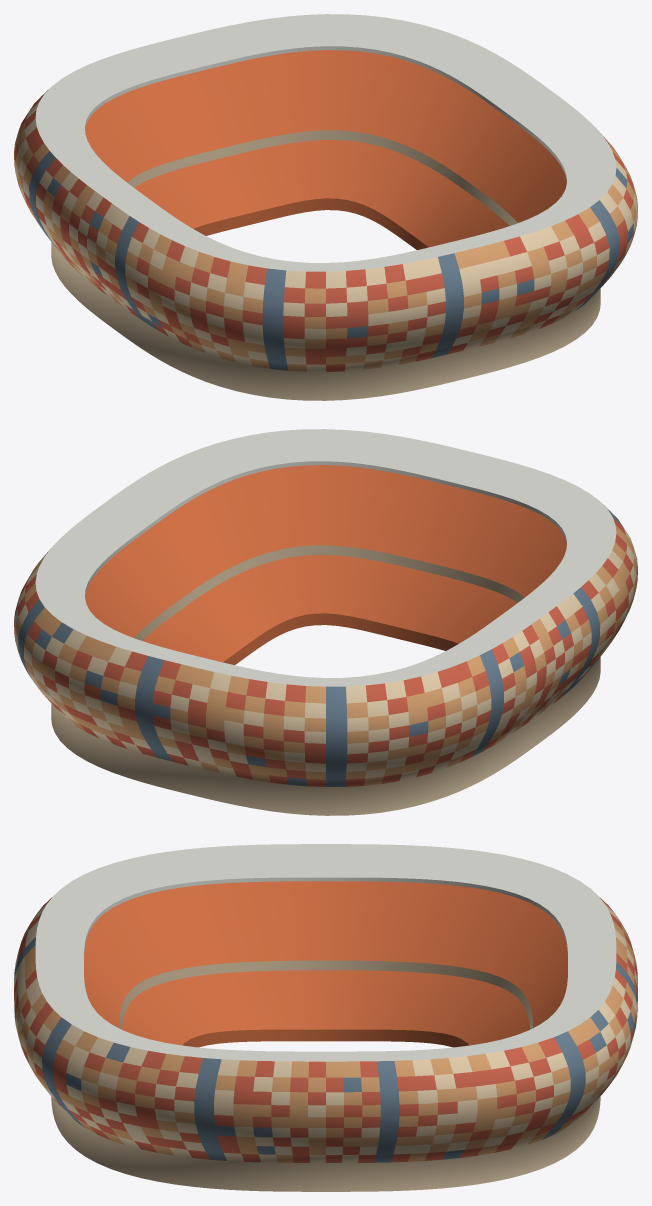
File: johannesburg-fnb-stadium.glb
3 renders of one model, top to bottom at view 1: azimuth 30°, elevation 25°; view 2: azimuth 150°, elevation 25°; view 3: azimuth 270°, elevation 25°, orthographic.
Parts seen in each view (by area): view 1: FNB Stadium; view 2: FNB Stadium; view 3: FNB Stadium.
Part boxes in pixels (bbox=[...]): FNB Stadium: bbox=[14, 14, 637, 400]; FNB Stadium: bbox=[14, 429, 637, 815]; FNB Stadium: bbox=[14, 844, 637, 1191].
Bounding box in the file's own units: 235 × 64 × 266.
